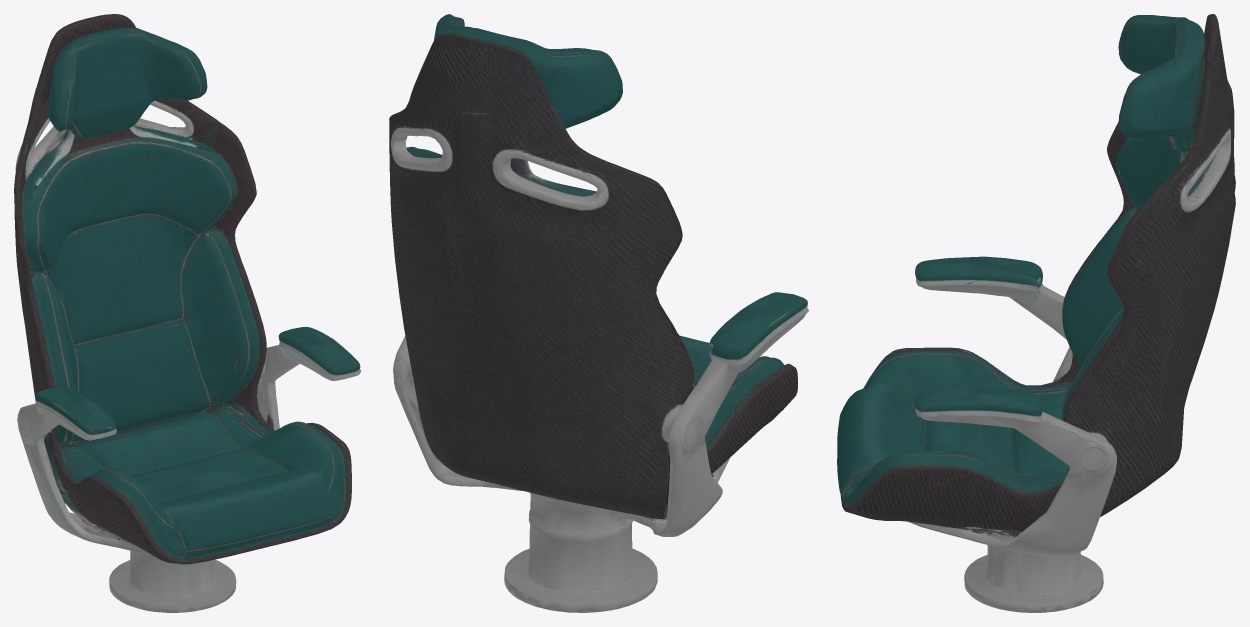
File: pilot_seat.glb
3 renders of one model, left to right at view 1: azimuth 30°, elevation 25°; view 2: azimuth 150°, elevation 25°; view 3: azimuth 270°, elevation 25°, orthographic. The views are drawn at different scales.
Visible parts, largest first — view 1: Mesh_0; view 2: Mesh_0; view 3: Mesh_0.
Boxes of the visible parts, bbox=[...] form: Mesh_0: bbox=[14, 14, 360, 612]; Mesh_0: bbox=[389, 14, 808, 612]; Mesh_0: bbox=[837, 14, 1235, 612].
Bounding box in the file's own units: 1.09 × 1.91 × 1.24.
1 material, 1 textured.
